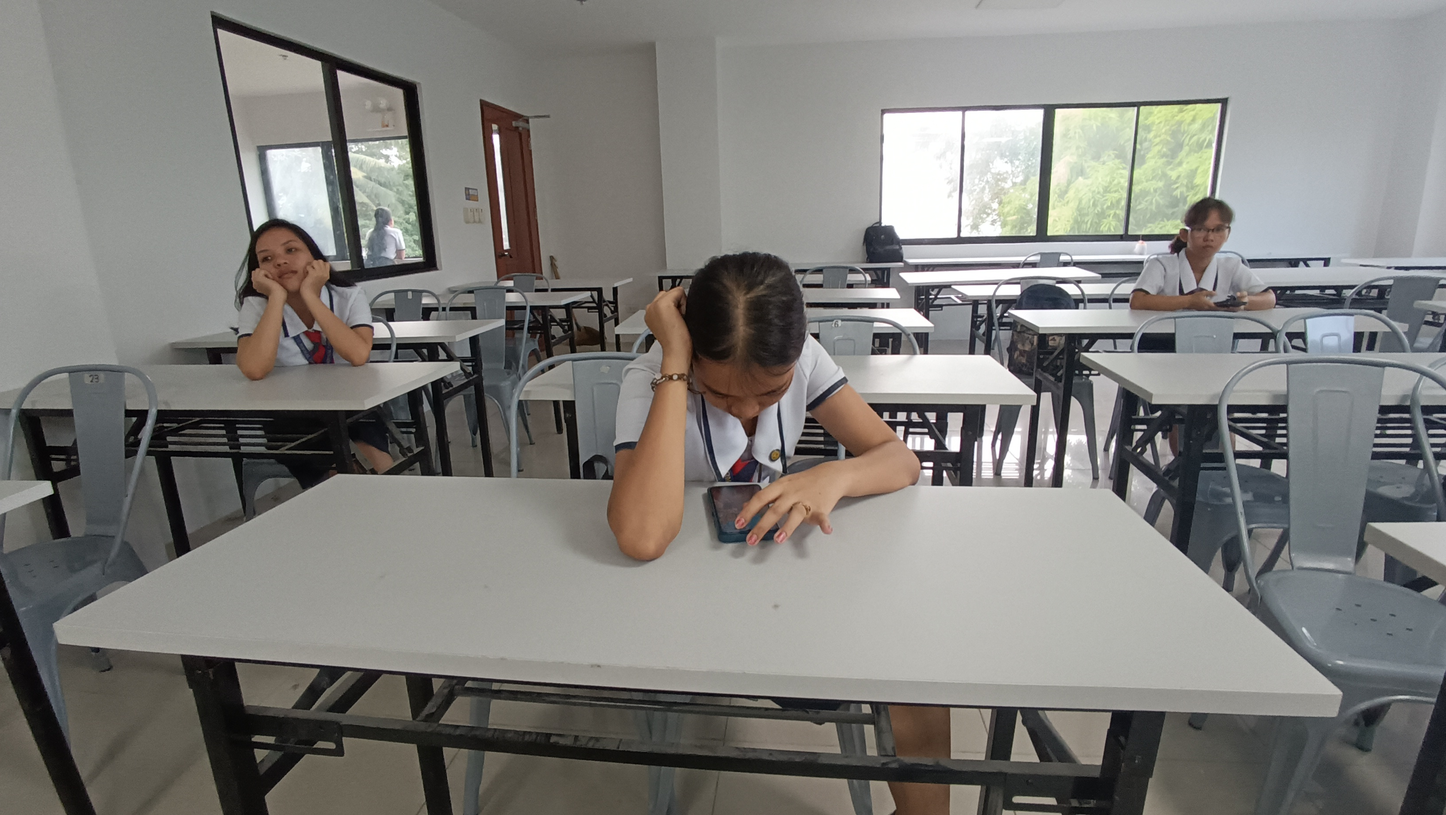with-student: (54, 242, 1342, 799), (1, 211, 465, 449), (1000, 189, 1411, 367)
